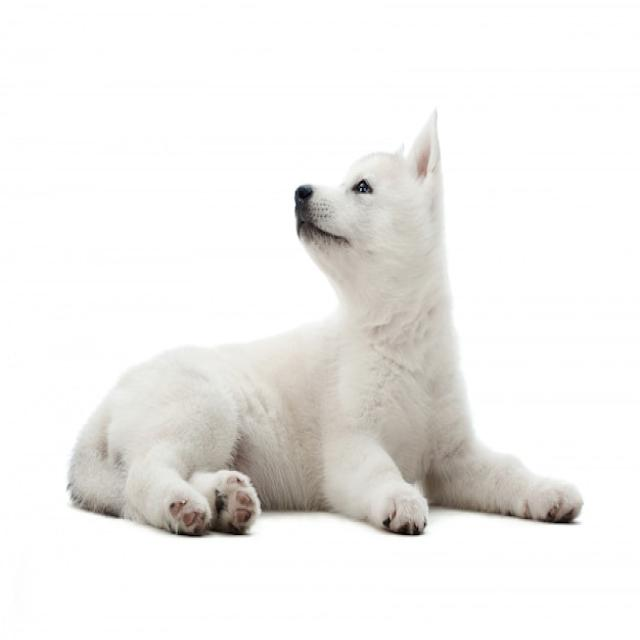Dog: (66, 110, 584, 538)
